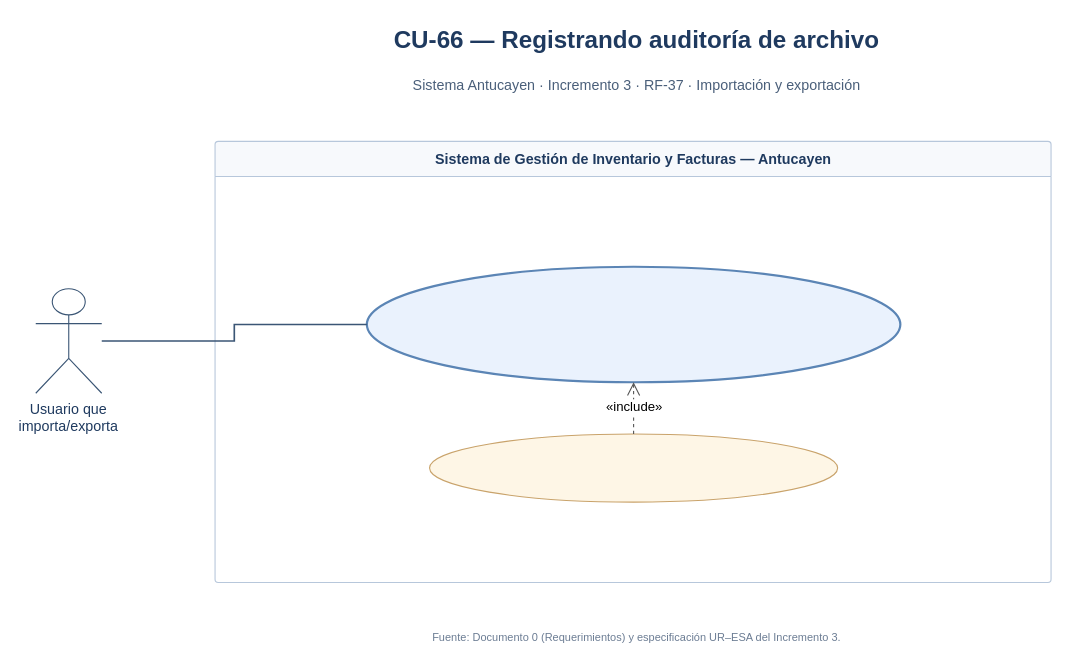
This 1073x670 diagram has some shape labels left out. Each missing label, with the centre of its shape:
"CU-66 Registrando auditoría de archivo" belongs at pixel 633 324.
"Importando o exportando archivo" belongs at pixel 633 467.
